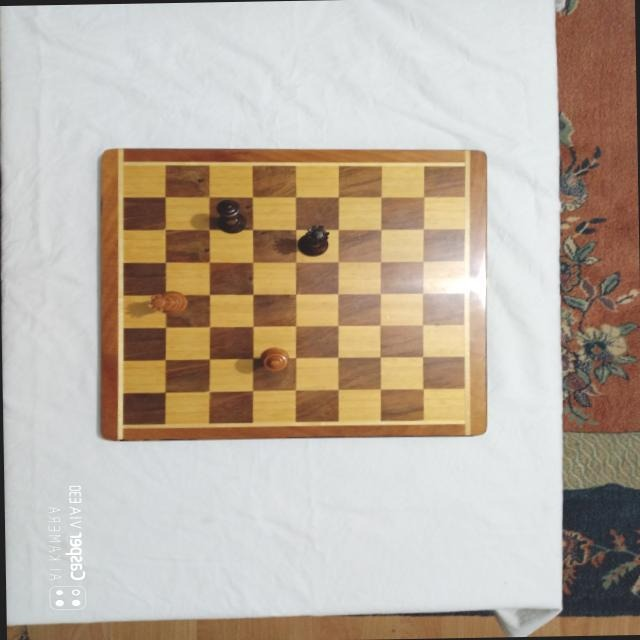black-king: (212, 197, 245, 234)
black-queen: (294, 223, 329, 256)
white-king: (260, 347, 288, 372)
white-queen: (145, 290, 187, 314)
